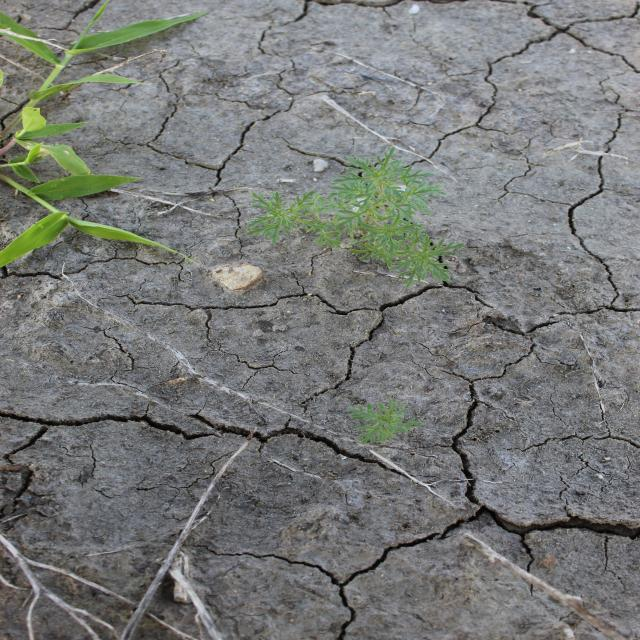Ragweed: (242, 144, 467, 290), (345, 396, 425, 446)
